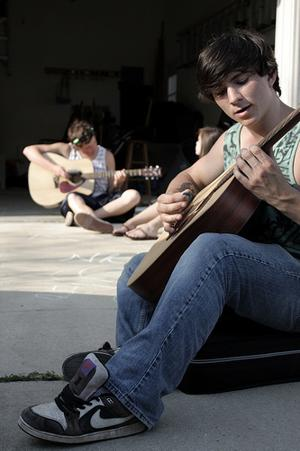person: (17, 27, 300, 448)
